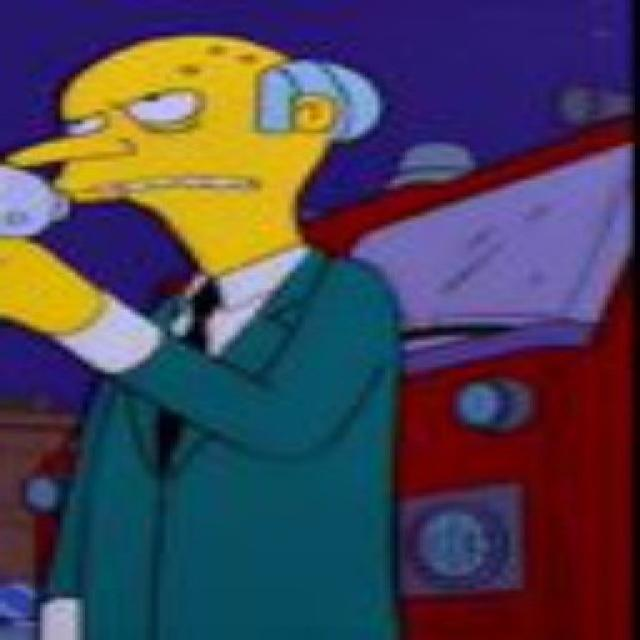Charles Montgomery Burns: (5, 36, 385, 266)
